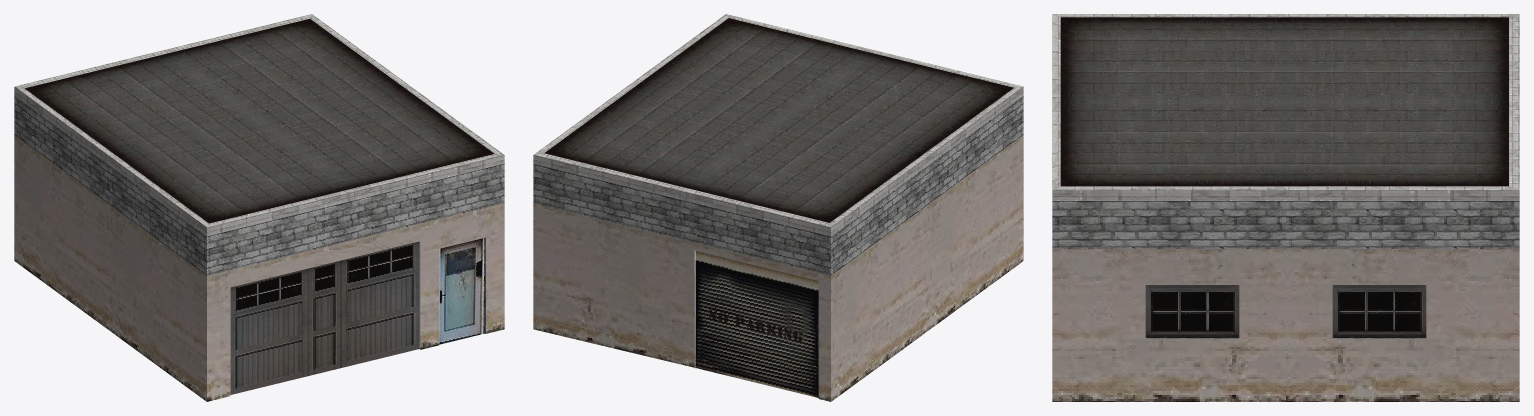
Rendered from psx_prop_old_garage.glb.
The picture shows the model from 3 angles, left to right: view 1: azimuth 30°, elevation 25°; view 2: azimuth 150°, elevation 25°; view 3: azimuth 270°, elevation 25°; orthographic projection. The views are drawn at different scales.
Parts seen in each view (by area): view 1: urbangarage512; view 2: urbangarage512; view 3: urbangarage512.
Part boxes in pixels (x1,y1,x2,y2): urbangarage512: (14,14,504,401); urbangarage512: (533,14,1023,401); urbangarage512: (1052,14,1519,401).
Bounding box in the file's own units: 7.14 × 4 × 8.
1 material, 1 textured.
